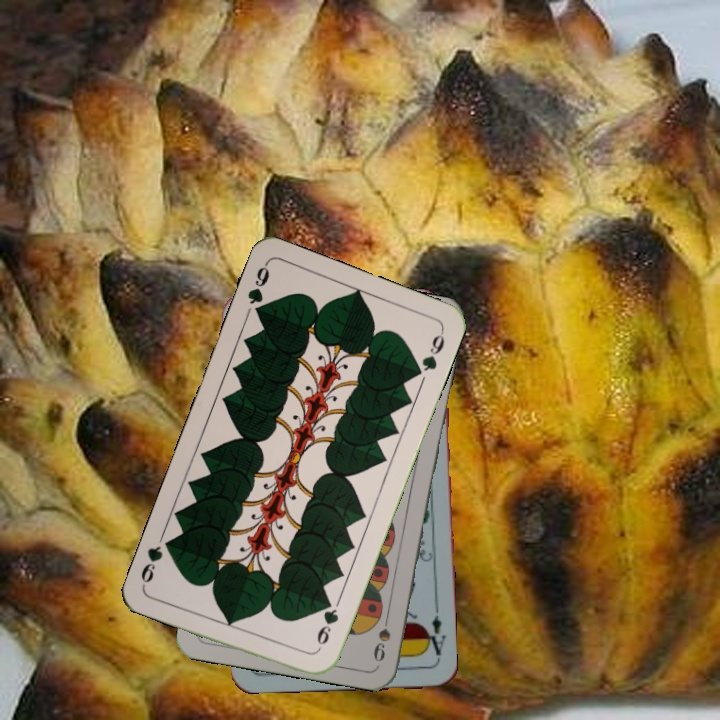EA: (421, 603, 448, 662)
G9: (243, 260, 272, 321), (312, 595, 341, 648)
S9: (369, 606, 394, 665)
